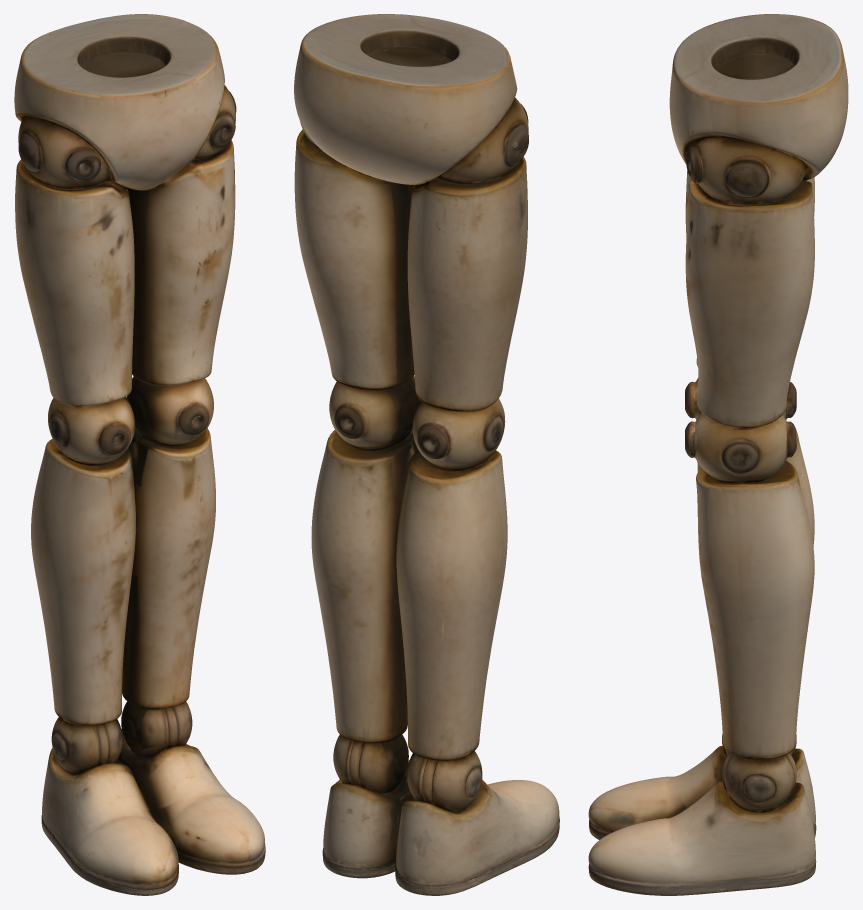
Rendered from Manequin_Down.fbx.
3 views of the same model, side by side, from view 1: azimuth 30°, elevation 25°; view 2: azimuth 150°, elevation 25°; view 3: azimuth 270°, elevation 25° (orthographic). The views are drawn at different scales.
Visible parts, largest first — view 1: node_0; view 2: node_0; view 3: node_0.
Part boxes in pixels (bbox=[...]): node_0: bbox=[14, 14, 265, 895]; node_0: bbox=[294, 14, 559, 895]; node_0: bbox=[588, 14, 848, 895].
Size of the model in its own units: 32.26 by 115 by 33.73.
Materials: 1 (1 with a texture image).
